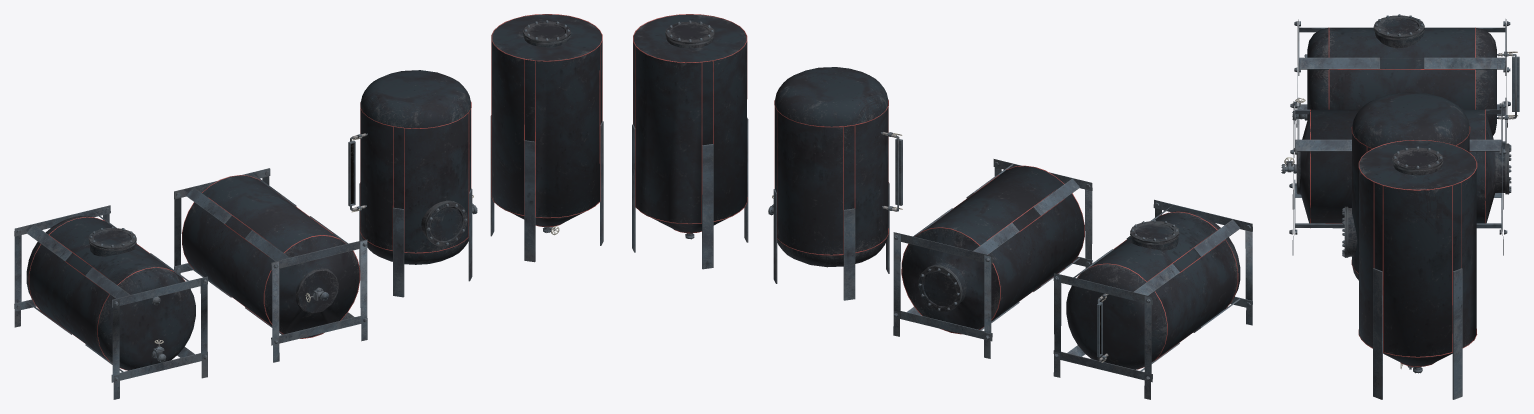
Rendered from boilers.fbx.
3 renders of one model, left to right at view 1: azimuth 30°, elevation 25°; view 2: azimuth 150°, elevation 25°; view 3: azimuth 270°, elevation 25°, orthographic. The views are drawn at different scales.
Visible parts, largest first — view 1: storage 3, storage 4, storage 1, storage 2; view 2: storage 3, storage 4, storage 1, storage 2; view 3: storage 3, storage 2, storage 4, storage 1.
Part boxes in pixels (left/top/right/bottom): storage 3: left=490, top=14, right=603, bottom=262; storage 4: left=174, top=168, right=367, bottom=362; storage 1: left=348, top=70, right=477, bottom=297; storage 2: left=14, top=205, right=207, bottom=399; storage 3: left=632, top=14, right=748, bottom=269; storage 4: left=893, top=159, right=1092, bottom=358; storage 1: left=768, top=67, right=902, bottom=300; storage 2: left=1053, top=199, right=1252, bottom=399; storage 3: left=1358, top=139, right=1477, bottom=399; storage 2: left=1292, top=14, right=1519, bottom=151; storage 4: left=1281, top=101, right=1511, bottom=255; storage 1: left=1342, top=92, right=1470, bottom=280.
Size of the model in its own units: 680 by 252 by 244.
